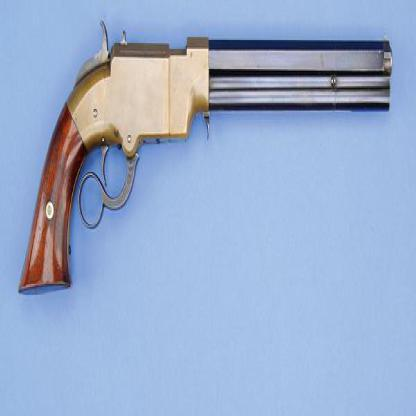pistol: (17, 14, 391, 298)
